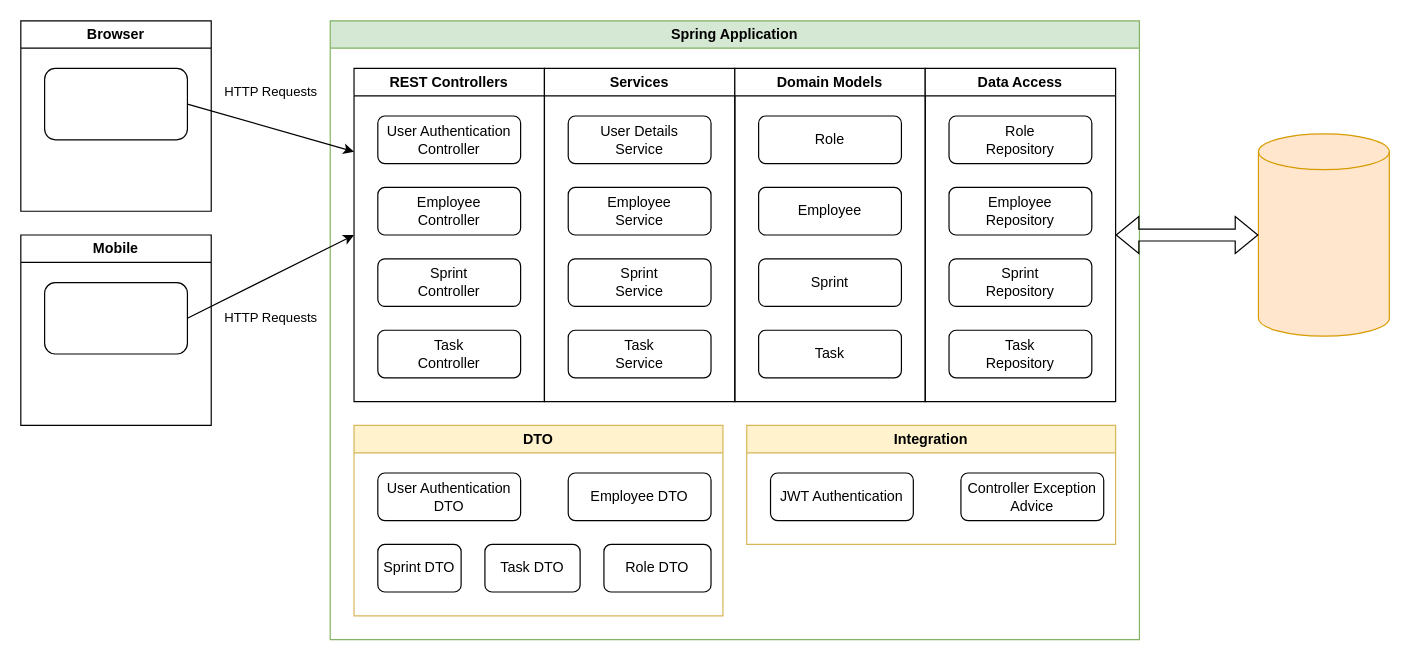
Image size: 1410x660. Some labels were removed from this diagram. Each missing label, with the centre of its shape:
Client Application (Angular, HTML, CSS...): [115,103]
Client Application (Futter, React Native...): [115,317]
Database (MySQL): [1323,234]
